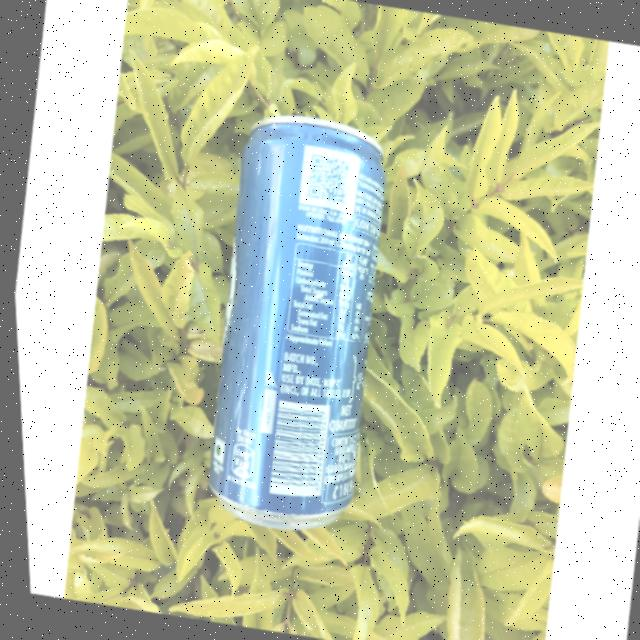Pepsi: (163, 101, 425, 548)
